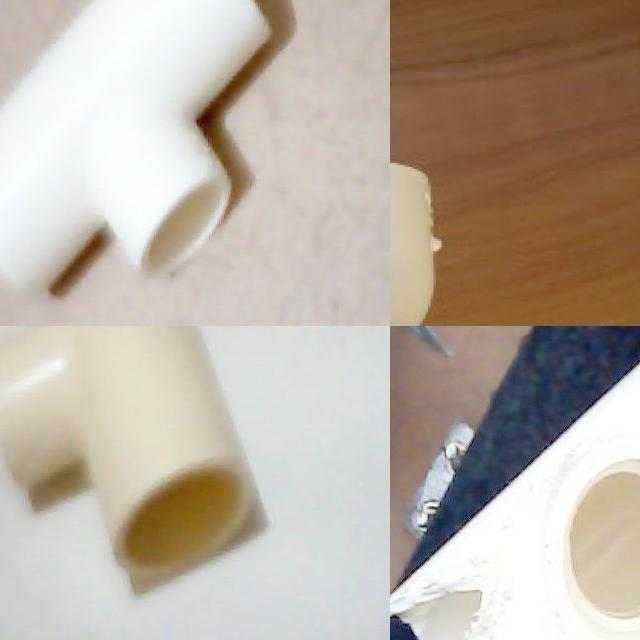Defective: (390, 581, 532, 640)
T Joint: (0, 0, 279, 301), (390, 362, 640, 640), (0, 326, 258, 578)
